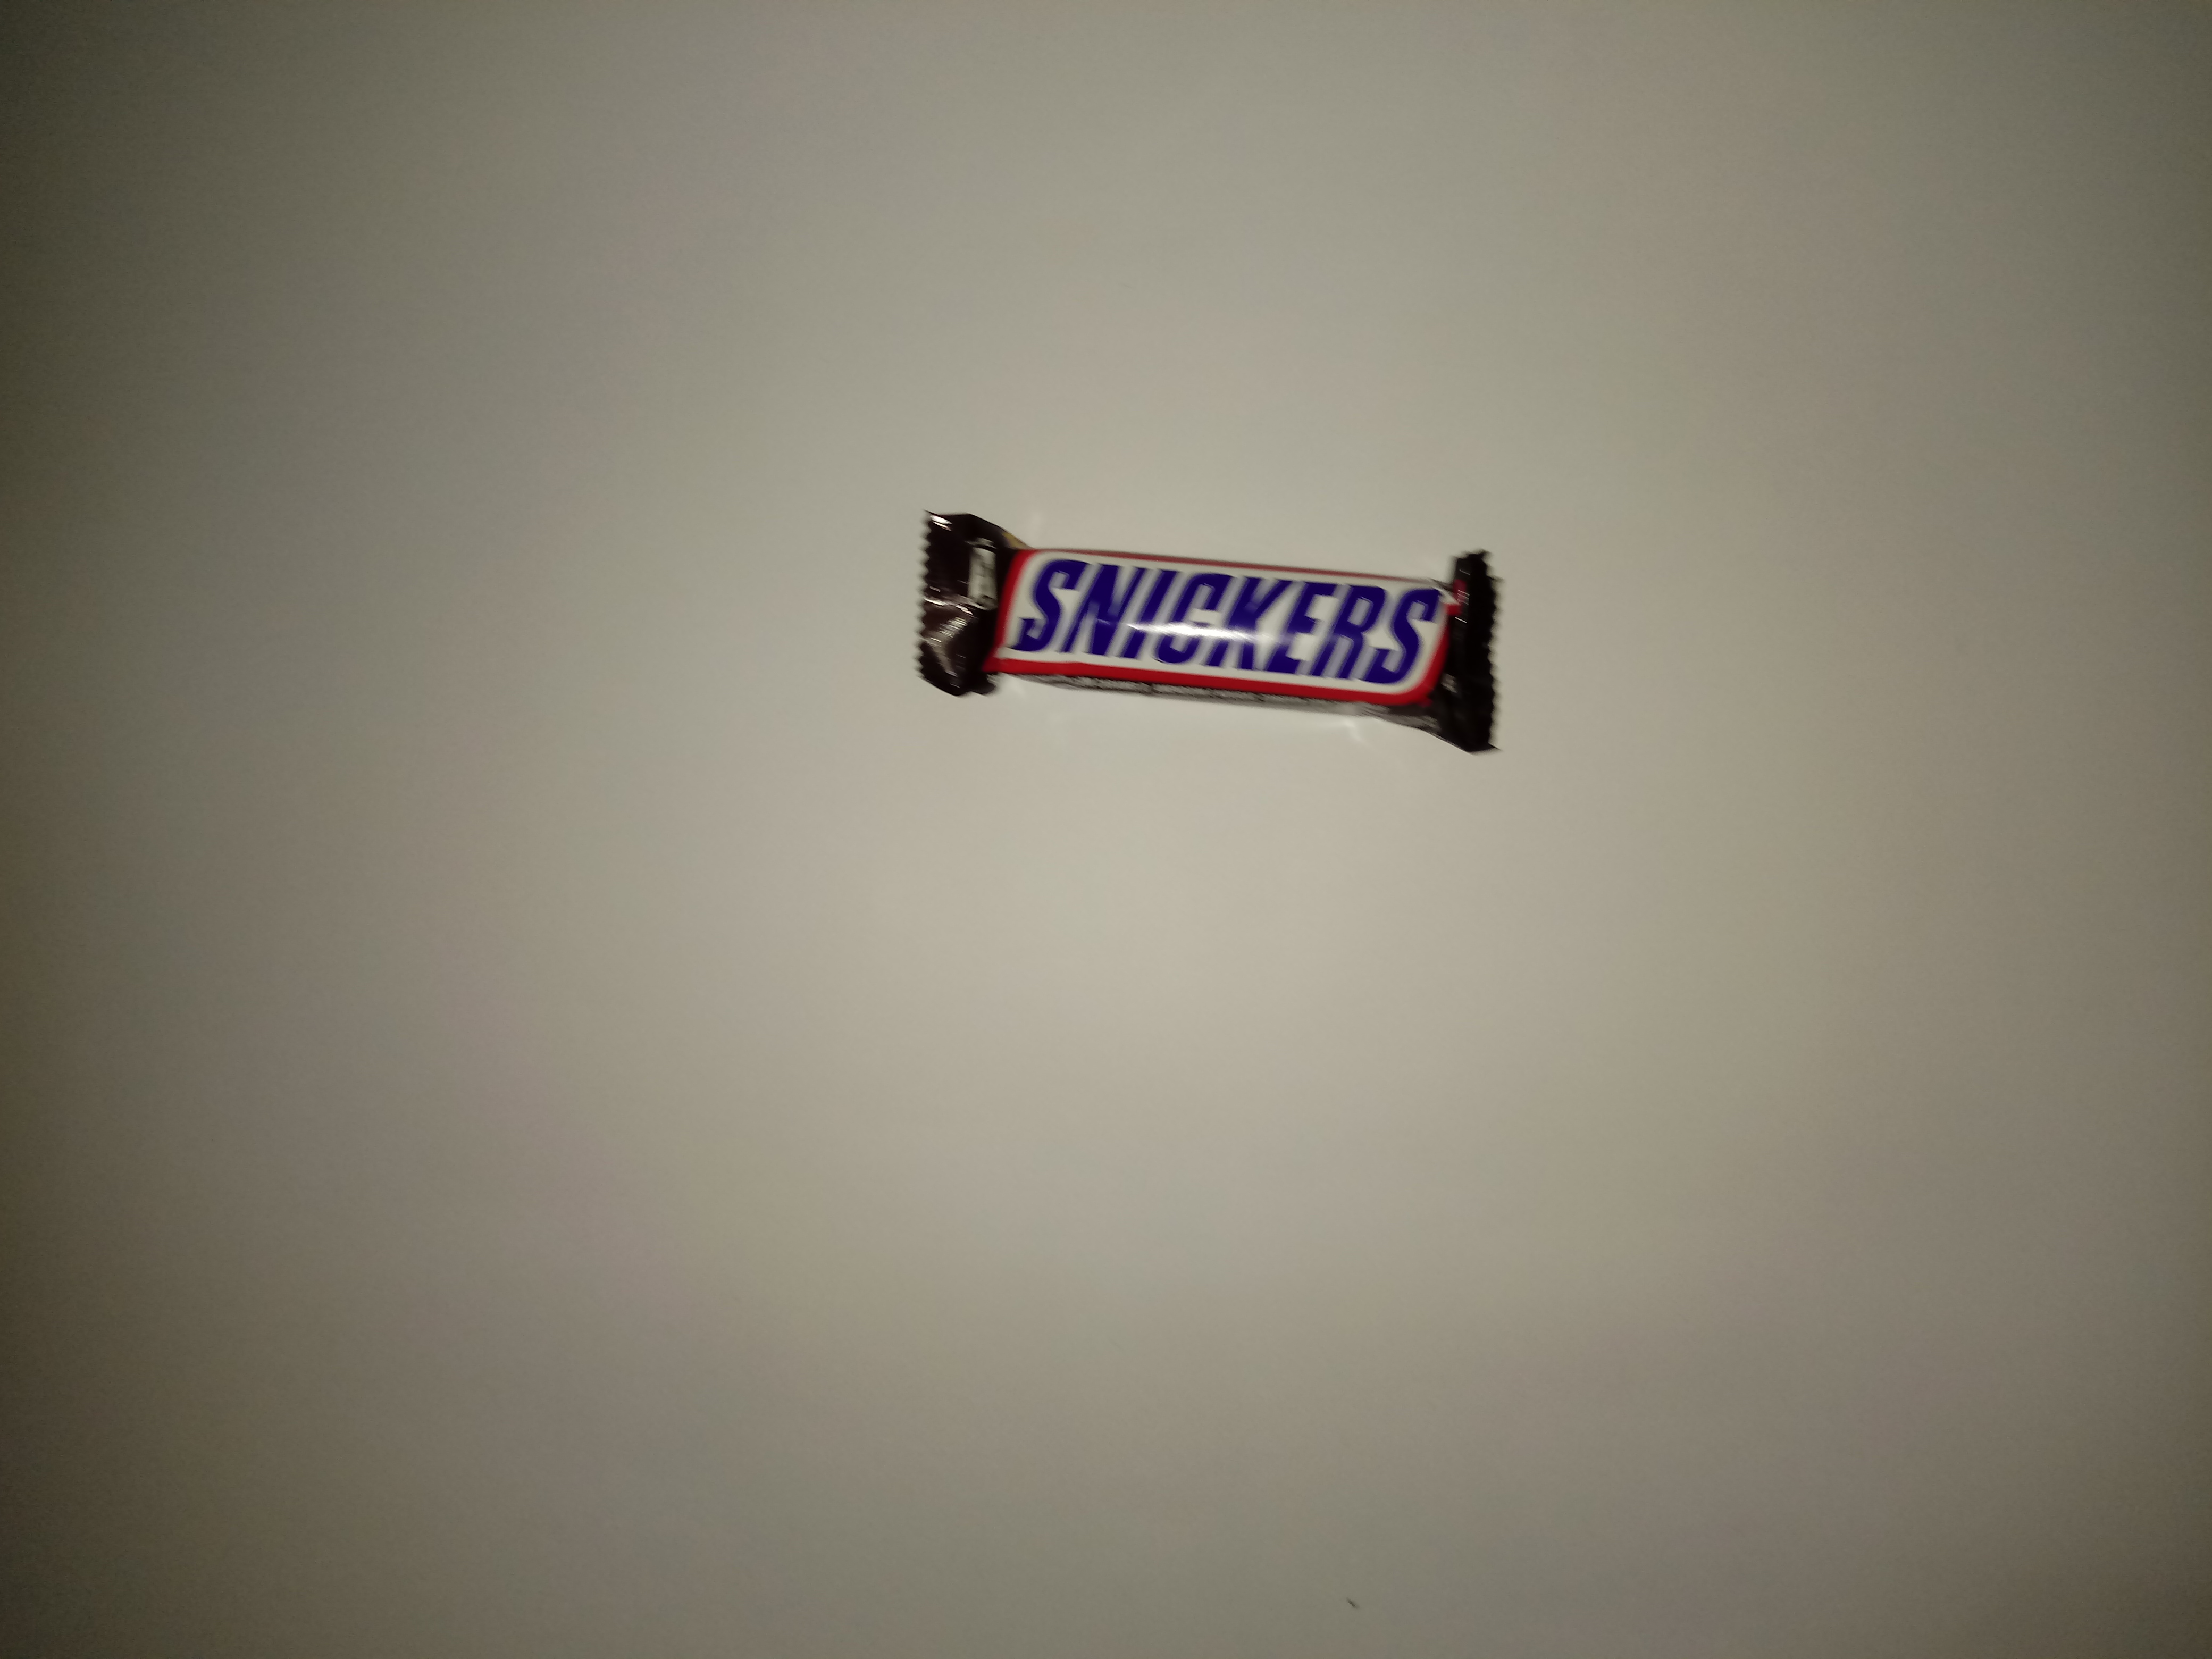snickers: (906, 505, 1527, 767)
